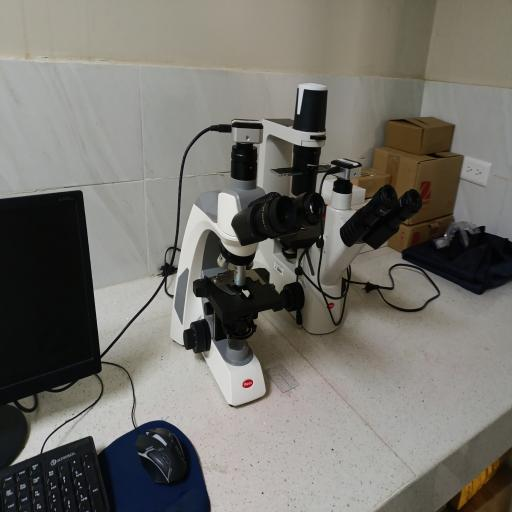Microscopio_camara: (254, 64, 428, 375), (164, 108, 323, 414)
